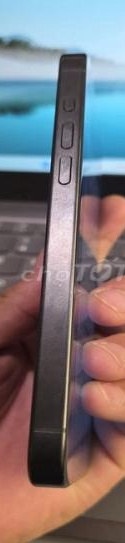scratch: (55, 156, 73, 288)
